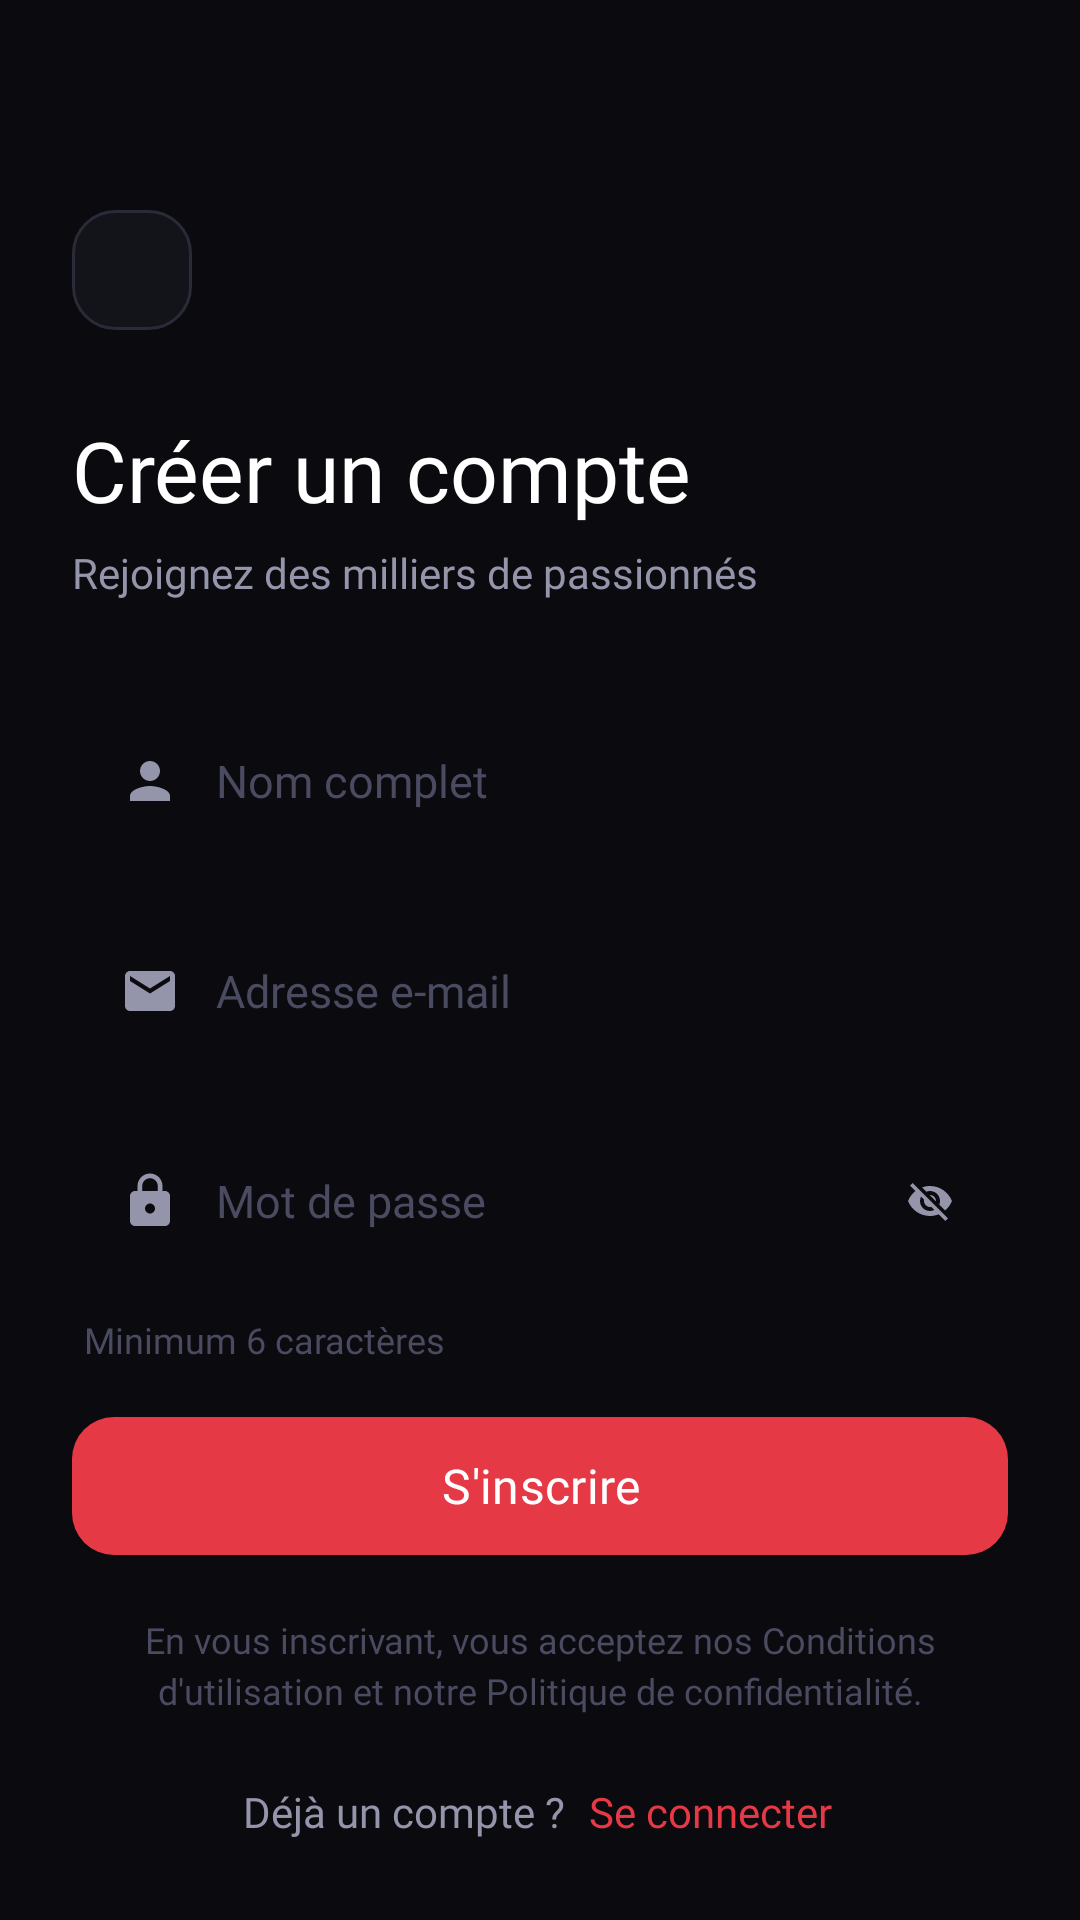

Icons on this 1080w x 1920h Android screen, each with its box as {"left": x1, "top": y1, "right": x2, "bottom": y2}:
lock: {"left": 130, "top": 1173, "right": 170, "bottom": 1226}
person: {"left": 130, "top": 761, "right": 170, "bottom": 801}
visibility off: {"left": 908, "top": 1183, "right": 952, "bottom": 1221}
